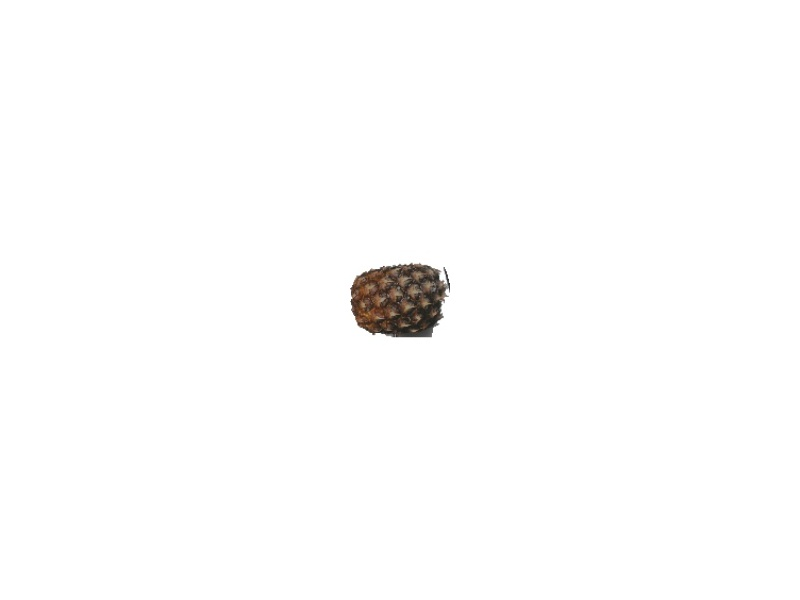abacaxi: (348, 260, 449, 340)
